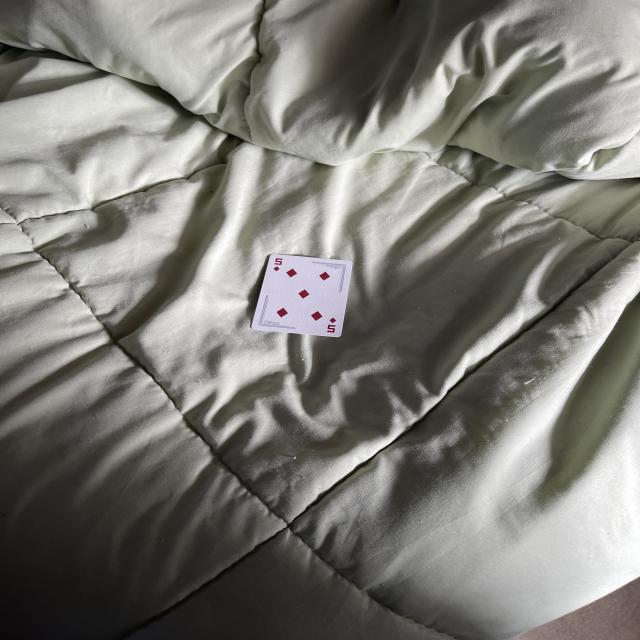5 of diamonds: (250, 255, 352, 339)
